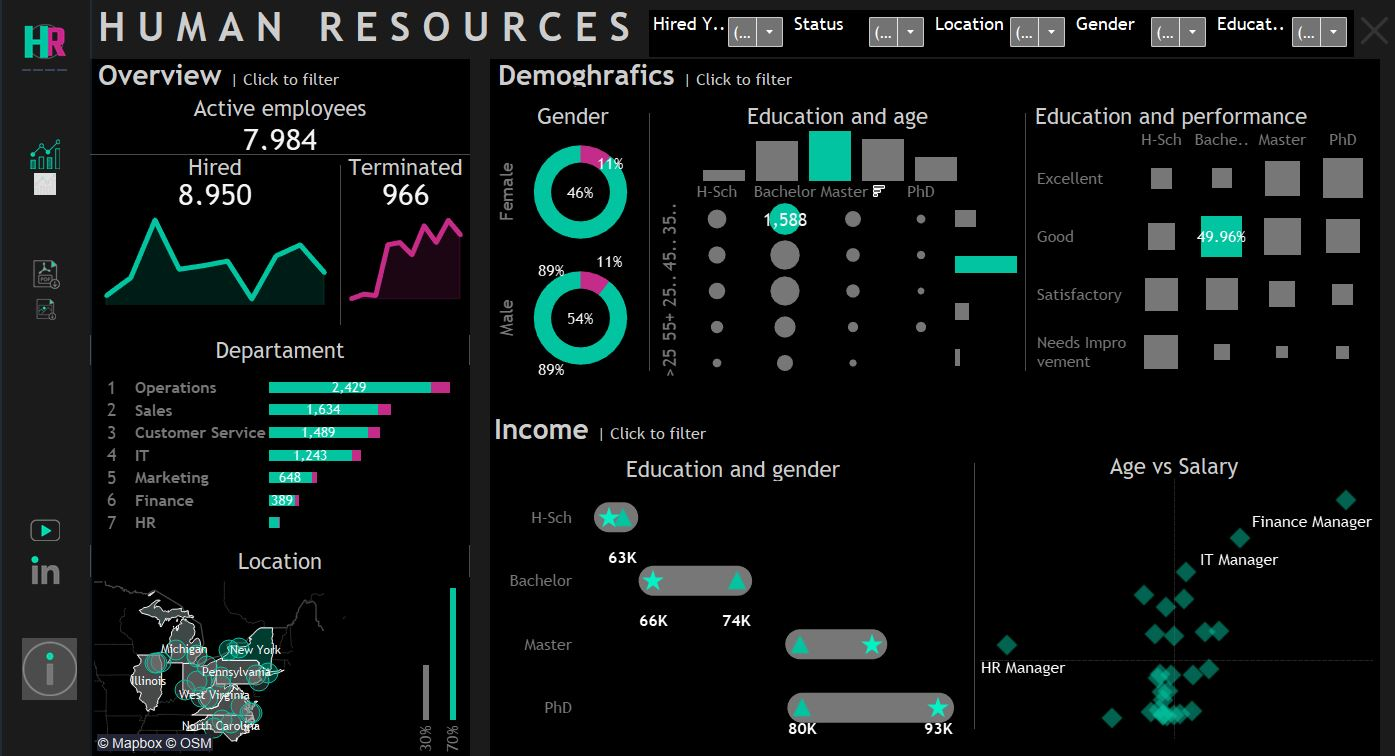

This screenshot's page, from the dashboard's own definition file:
{"tool":"tableau","page":{"name":"HR | Summary","canvas":[1400,800],"ordinal":2},"visuals":[{"type":"blank","box":[111,1,1284,322.5]},{"type":"filter","title":"Gender vs Education Level","param":"[federated.0m5lkp20guo30x1bqlazy0nindkr].[yr:Hiredate:ok]","box":[649,12,141,47]},{"type":"filter","title":"Gender vs Education Level","param":"[federated.0m5lkp20guo30x1bqlazy0nindkr].[none:Calculation_1251719287526285312:n","box":[790,12,141,47]},{"type":"filter","title":"Gender vs Education Level","param":"[federated.0m5lkp20guo30x1bqlazy0nindkr].[none:Calculation_1025413405881081861:n","box":[931,12,141,47]},{"type":"filter","title":"Gender vs Education Level","param":"[federated.0m5lkp20guo30x1bqlazy0nindkr].[none:Gender:nk]","box":[1072,12,141,47]},{"type":"filter","title":"Gender vs Education Level","param":"[federated.0m5lkp20guo30x1bqlazy0nindkr].[none:Education Level:nk]","box":[1213,12,141,47]},{"type":"dashboard-object","box":[1354,12,41,41]},{"type":"image","param":"Image/Logo.png","box":[20,16,50,55]},{"type":"text","box":[90,61,380,32.7]},{"type":"text","box":[490,61,890,32]},{"type":"blank","box":[30,81,30,60]},{"type":"text","box":[90,93.7,380,32.7]},{"type":"text","box":[497,105,152,26]},{"type":"blank","box":[649,105,1,278]},{"type":"text","box":[655,105,365,26]},{"type":"blank","box":[1025,105,1,278]},{"type":"text","box":[1031,105,342,26]},{"type":"worksheet","title":"Ban Active","mark":"Text","box":[90,126.3,380,30]},{"type":"worksheet","title":"Gender","mark":"Pie","rows":["Gender"],"cols":["Calculation_1251719287548964876","Calculation_1251719287548964876"],"box":[497,131,152,252]},{"type":"worksheet","title":"Age group","mark":"Bar","rows":["Calculation_1025413405872709632"],"cols":["Calculation_1025413405894193161"],"box":[655,131,365,52]},{"type":"worksheet","title":"Education vs Performance","mark":"Square","rows":["Performance Rating"],"cols":["Education Level"],"box":[1031,131,342,252]},{"type":"dashboard-object","box":[30,141,30,30]},{"type":"blank","box":[90,156.3,380,1]},{"type":"text","box":[90,157.3,250,24]},{"type":"blank","box":[340,157.3,1,179.7]},{"type":"text","box":[341,157.3,128.9,24]},{"type":"dashboard-object","box":[30,171,30,30]},{"type":"worksheet","title":"Ban Hired","mark":"Text","box":[90,181.3,250,30]},{"type":"worksheet","title":"Ban Terminated","mark":"Text","box":[341,181.3,128.9,30]},{"type":"worksheet","title":"Age vs Education","mark":"Pie","rows":["Calculation_1025413405894193161"],"cols":["Education Level"],"box":[655,183,300,200]},{"type":"worksheet","title":"Education levels","mark":"Bar","rows":["Education Level"],"cols":["Calculation_1025413405872709632"],"box":[955,183,65,200]},{"type":"blank","box":[30,201,30,60]},{"type":"worksheet","title":"Hired by Year","mark":"Line","rows":["Calculation_1025413405872709632","Calculation_1025413405872709632"],"cols":["Hiredate"],"box":[90,211.3,250,100]},{"type":"worksheet","title":"Terminated by Year","mark":"Line","rows":["Calculation_1025413405872824321","Calculation_1025413405872824321"],"cols":["Termdate"],"box":[341,211.3,128.9,100]},{"type":"dashboard-object","box":[30,261,30,30]},{"type":"dashboard-object","box":[30,291,30,40]},{"type":"text","box":[111,323.5,1284,155]},{"type":"blank","box":[30,331,30,190.5]},{"type":"blank","box":[90,337,1,30]},{"type":"text","box":[91,337,378,30]},{"type":"blank","box":[469,337,1,30]},{"type":"worksheet","title":"Departament","mark":"Bar","rows":["Calculation_1025413405879939076","Department"],"cols":["Calculation_1025413405872709632"],"box":[90,367,380,179.7]},{"type":"text","box":[490,415,890,33]},{"type":"text","box":[497,455,472.5,32]},{"type":"blank","box":[974.5,455,1,286]},{"type":"text","box":[975.5,455,397.5,26]},{"type":"blank","box":[111,478.5,1284,322.5]},{"type":"worksheet","title":"Age vs Salary","mark":"Shape","rows":["Salary"],"cols":["Calculation_1025413405893390344"],"box":[975.5,481,397.5,260]},{"type":"worksheet","title":"Gender vs Education Level","mark":"Square","rows":["Education Level"],"cols":["Salary","Salary"],"box":[497,487,472.5,254]},{"type":"image","param":"Image/contact-channel.png","box":[30,521.5,30,36]},{"type":"blank","box":[90,546.7,1,32.7]},{"type":"text","box":[91,546.7,378,32.7]},{"type":"blank","box":[469,546.7,1,32.7]},{"type":"image","param":"Image/contact-linkedin.png","box":[30,557.5,30,208.5]},{"type":"worksheet","title":"Map States","mark":"Automatic","box":[90,579.3,317.7,179.7]},{"type":"worksheet","title":"Location","mark":"Bar","rows":["Calculation_1025413405872709632"],"box":[407.7,579.3,62.3,179.7]},{"type":"dashboard-object","box":[22,640,55,62]}]}

Visuals, with their boxes on the page's 1400x800 design canvas (x1, y1, x2, y2). These are canvas units, not pixel positions in the 1395x756 screenshot, which may show the page scaled, cropped or inside an application window:
blank: [x1=111, y1=1, x2=1395, y2=324]
"Gender vs Education Level" filter: [x1=649, y1=12, x2=790, y2=59]
"Gender vs Education Level" filter: [x1=790, y1=12, x2=931, y2=59]
"Gender vs Education Level" filter: [x1=931, y1=12, x2=1072, y2=59]
"Gender vs Education Level" filter: [x1=1072, y1=12, x2=1213, y2=59]
"Gender vs Education Level" filter: [x1=1213, y1=12, x2=1354, y2=59]
dashboard-object: [x1=1354, y1=12, x2=1395, y2=53]
image: [x1=20, y1=16, x2=70, y2=71]
text: [x1=90, y1=61, x2=470, y2=94]
text: [x1=490, y1=61, x2=1380, y2=93]
blank: [x1=30, y1=81, x2=60, y2=141]
text: [x1=90, y1=94, x2=470, y2=126]
text: [x1=497, y1=105, x2=649, y2=131]
blank: [x1=649, y1=105, x2=650, y2=383]
text: [x1=655, y1=105, x2=1020, y2=131]
blank: [x1=1025, y1=105, x2=1026, y2=383]
text: [x1=1031, y1=105, x2=1373, y2=131]
"Ban Active" worksheet (Text marks): [x1=90, y1=126, x2=470, y2=156]
"Gender" worksheet (Pie marks): [x1=497, y1=131, x2=649, y2=383]
"Age group" worksheet (Bar marks): [x1=655, y1=131, x2=1020, y2=183]
"Education vs Performance" worksheet (Square marks): [x1=1031, y1=131, x2=1373, y2=383]
dashboard-object: [x1=30, y1=141, x2=60, y2=171]
blank: [x1=90, y1=156, x2=470, y2=157]
text: [x1=90, y1=157, x2=340, y2=181]
blank: [x1=340, y1=157, x2=341, y2=337]
text: [x1=341, y1=157, x2=470, y2=181]
dashboard-object: [x1=30, y1=171, x2=60, y2=201]
"Ban Hired" worksheet (Text marks): [x1=90, y1=181, x2=340, y2=211]
"Ban Terminated" worksheet (Text marks): [x1=341, y1=181, x2=470, y2=211]
"Age vs Education" worksheet (Pie marks): [x1=655, y1=183, x2=955, y2=383]
"Education levels" worksheet (Bar marks): [x1=955, y1=183, x2=1020, y2=383]
blank: [x1=30, y1=201, x2=60, y2=261]
"Hired by Year" worksheet (Line marks): [x1=90, y1=211, x2=340, y2=311]
"Terminated by Year" worksheet (Line marks): [x1=341, y1=211, x2=470, y2=311]
dashboard-object: [x1=30, y1=261, x2=60, y2=291]
dashboard-object: [x1=30, y1=291, x2=60, y2=331]
text: [x1=111, y1=324, x2=1395, y2=478]
blank: [x1=30, y1=331, x2=60, y2=522]
blank: [x1=90, y1=337, x2=91, y2=367]
text: [x1=91, y1=337, x2=469, y2=367]
blank: [x1=469, y1=337, x2=470, y2=367]
"Departament" worksheet (Bar marks): [x1=90, y1=367, x2=470, y2=547]
text: [x1=490, y1=415, x2=1380, y2=448]
text: [x1=497, y1=455, x2=970, y2=487]
blank: [x1=974, y1=455, x2=976, y2=741]
text: [x1=976, y1=455, x2=1373, y2=481]
blank: [x1=111, y1=478, x2=1395, y2=801]
"Age vs Salary" worksheet (Shape marks): [x1=976, y1=481, x2=1373, y2=741]
"Gender vs Education Level" worksheet (Square marks): [x1=497, y1=487, x2=970, y2=741]
image: [x1=30, y1=522, x2=60, y2=558]
blank: [x1=90, y1=547, x2=91, y2=579]
text: [x1=91, y1=547, x2=469, y2=579]
blank: [x1=469, y1=547, x2=470, y2=579]
image: [x1=30, y1=558, x2=60, y2=766]
"Map States" worksheet: [x1=90, y1=579, x2=408, y2=759]
"Location" worksheet (Bar marks): [x1=408, y1=579, x2=470, y2=759]
dashboard-object: [x1=22, y1=640, x2=77, y2=702]
